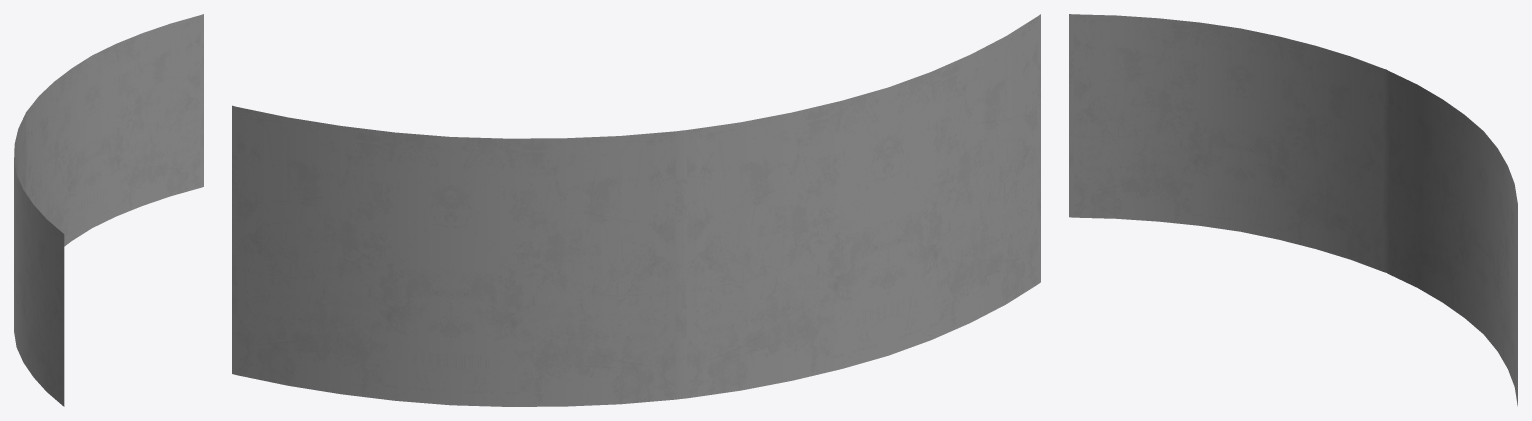
The model's file is short_wall_white_plate2_corner_outer.glb.
3 renders of one model, left to right at view 1: azimuth 30°, elevation 25°; view 2: azimuth 150°, elevation 25°; view 3: azimuth 270°, elevation 25°, orthographic. The views are drawn at different scales.
Parts seen in each view (by area): view 1: ShortWall_WhitePlate2_Corner_Outer; view 2: ShortWall_WhitePlate2_Corner_Outer; view 3: ShortWall_WhitePlate2_Corner_Outer.
Boxes of the visible parts, x1=… form: ShortWall_WhitePlate2_Corner_Outer: x1=14, y1=14, x2=203, y2=406; ShortWall_WhitePlate2_Corner_Outer: x1=232, y1=14, x2=1040, y2=406; ShortWall_WhitePlate2_Corner_Outer: x1=1069, y1=14, x2=1517, y2=406.
Bounding box in the file's own units: 4 × 2 × 4.
Materials: 1 (1 with a texture image).
